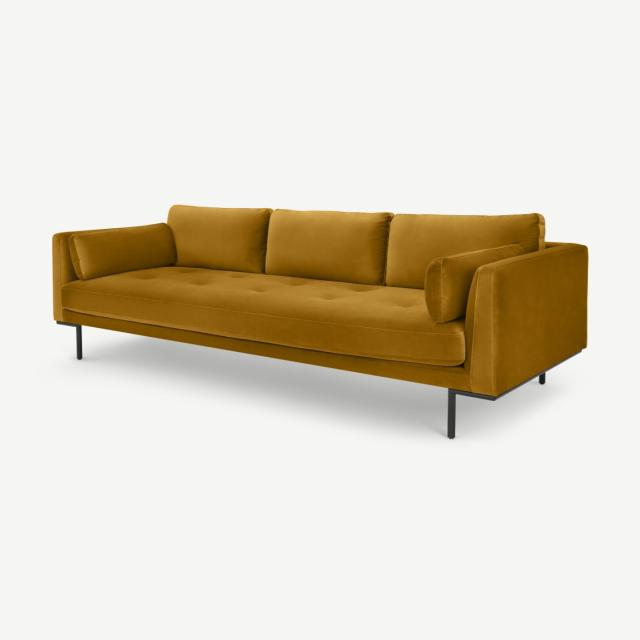back_cushion: (67, 205, 544, 322)
left_arm: (465, 244, 587, 395)
legs: (447, 389, 456, 439), (73, 325, 81, 359), (539, 372, 545, 384)
right_arm: (52, 232, 77, 320)
seat_cushion: (62, 266, 465, 366)
stallion-sofa: (0, 0, 639, 639)
